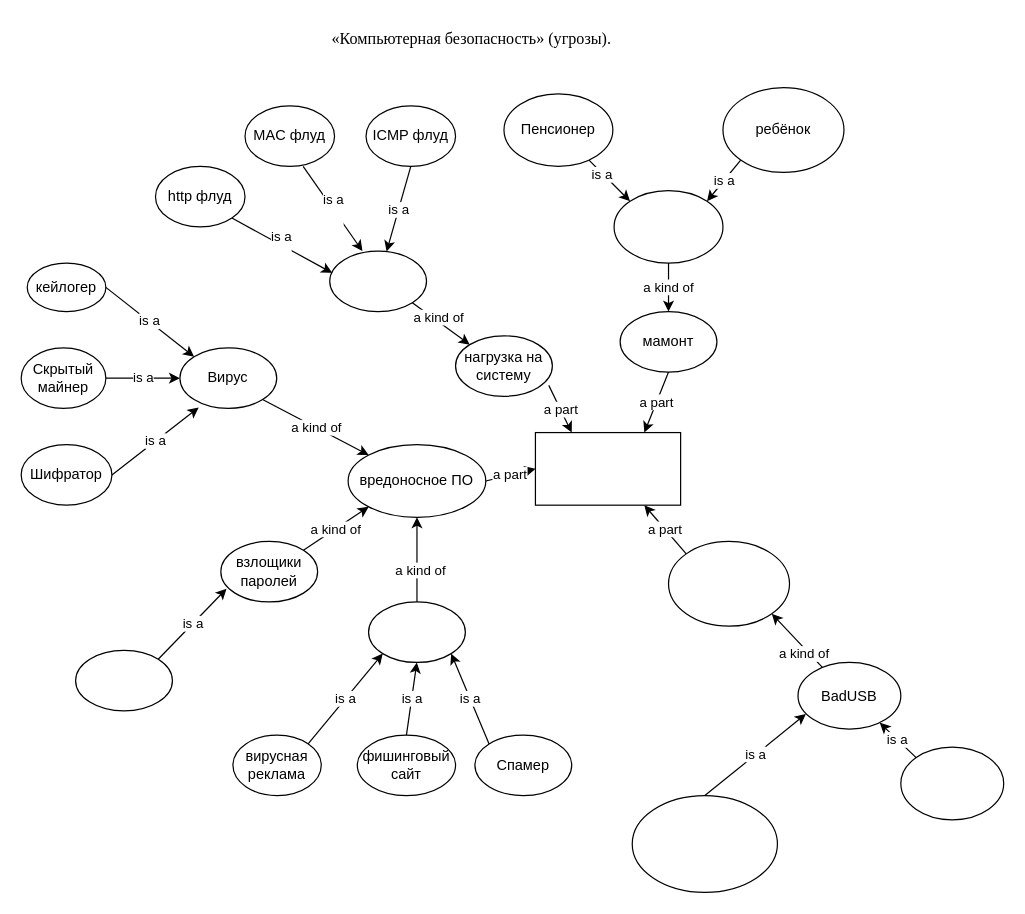
Some shapes in this 1025 by 914 pixel diagram are drawn without their labels. Each missing label, with the box of its shape:
broodforce: (74, 649, 172, 711)
Ddos: (329, 250, 427, 312)
usb killer: (900, 746, 1004, 820)
Имитация сетевой карты: (631, 794, 777, 892)
неопытный пользователь: (613, 189, 723, 263)
перехватчик информации: (367, 601, 465, 662)
угрозы: (534, 431, 681, 505)
физическое взаимодействие: (667, 540, 790, 626)
